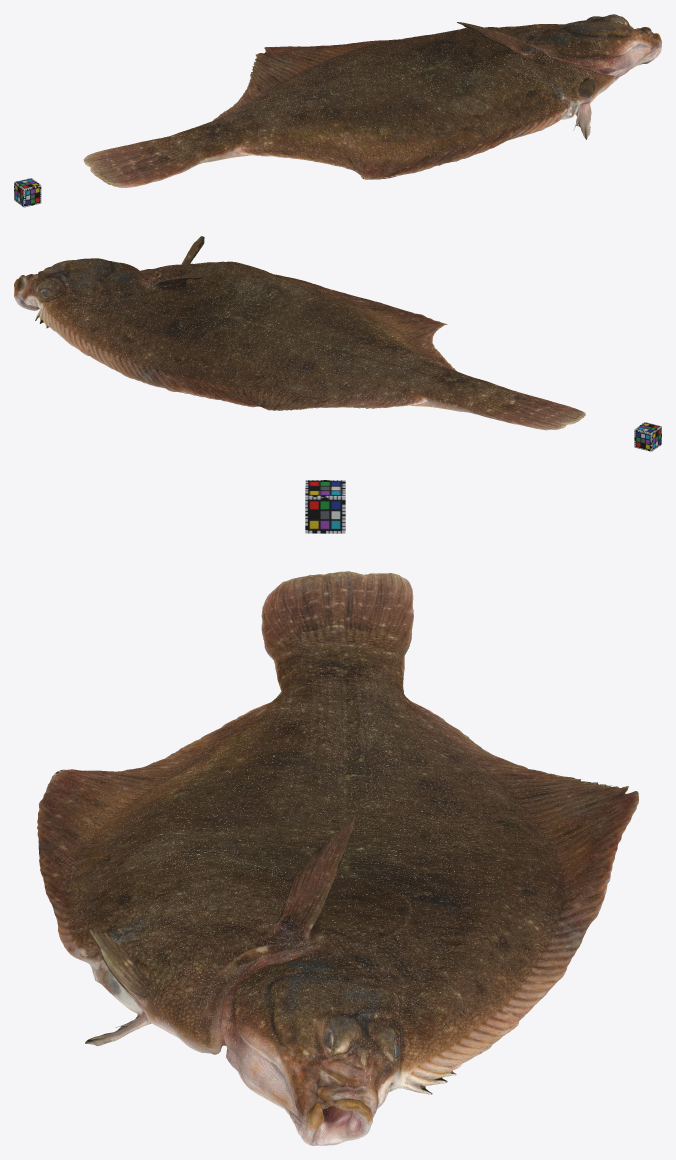
File: makogarei-b32401f1d0a8.glb
3 views of the same model, one above another, from view 1: azimuth 30°, elevation 25°; view 2: azimuth 150°, elevation 25°; view 3: azimuth 270°, elevation 25° (orthographic). The views are drawn at different scales.
Visible parts, largest first — view 1: Q11804-1all-1_5, Cube_2; view 2: Q11804-1all-1_5, Cube_2; view 3: Q11804-1all-1_5, Cube_2.
Part boxes in pixels (x1,y1,x2,y2): Q11804-1all-1_5: (83,14,661,187); Cube_2: (14,178,41,207); Q11804-1all-1_5: (14,236,585,430); Cube_2: (634,422,661,451); Q11804-1all-1_5: (37,571,638,1145); Cube_2: (305,480,345,533).
Bounding box in the file's own units: 18.22 × 3.1 × 7.42.
3 materials, 3 textured.
